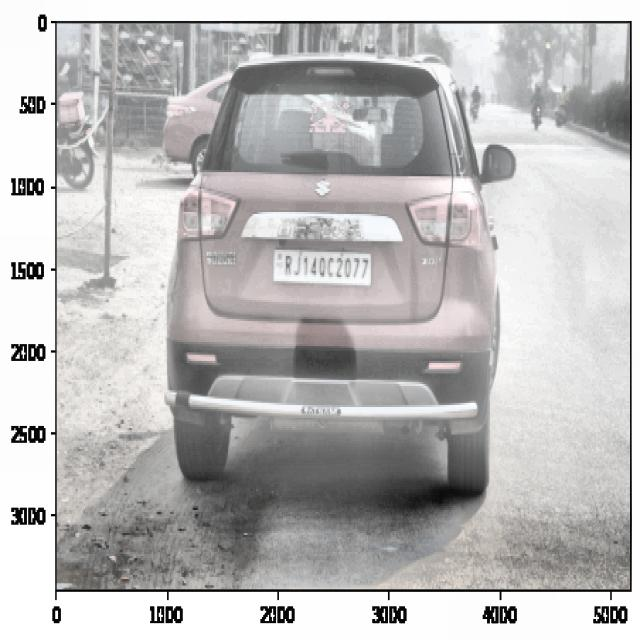license_plate: (278, 250, 373, 290)
